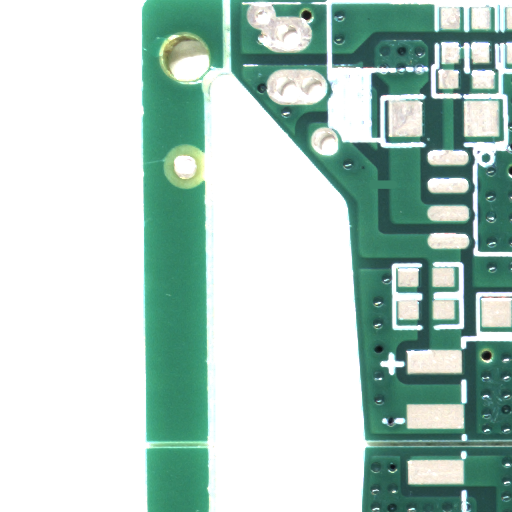Short: (382, 184, 401, 199)
